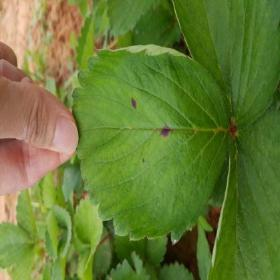Leaf Spot: (70, 44, 231, 246)
